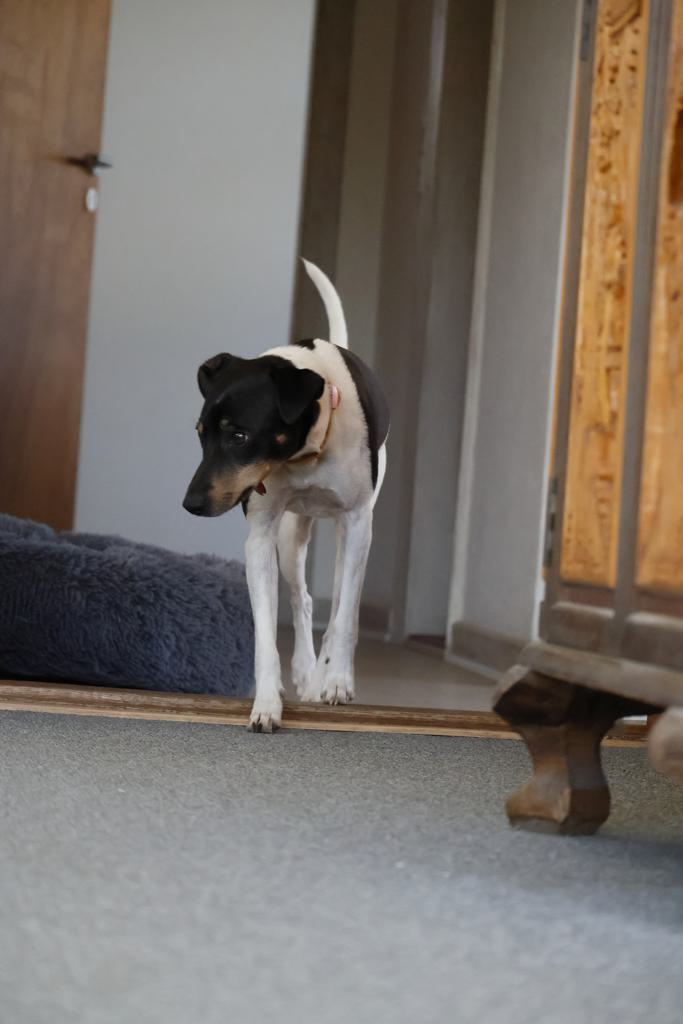Dog: (166, 249, 417, 744)
